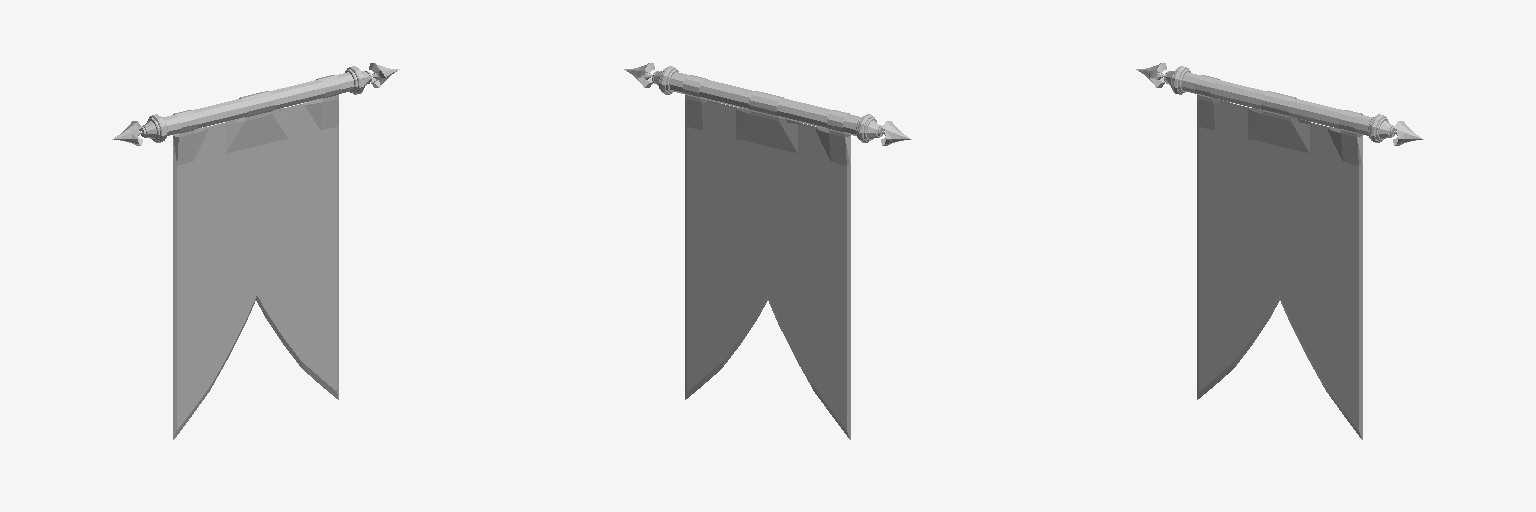
Rendered from Flag_low.obj.
The picture shows the model from 3 angles: view 1: azimuth 30°, elevation 25°; view 2: azimuth 150°, elevation 25°; view 3: azimuth 330°, elevation 25°; orthographic projection.
Parts seen in each view (by area): view 1: pPlane13; view 2: pPlane13; view 3: pPlane13.
Part boxes in pixels (x1,y1,x2,y2): pPlane13: (112, 63, 399, 439); pPlane13: (624, 63, 911, 439); pPlane13: (1136, 63, 1423, 439).
Size of the model in its own units: 73.85 by 80.84 by 6.61.